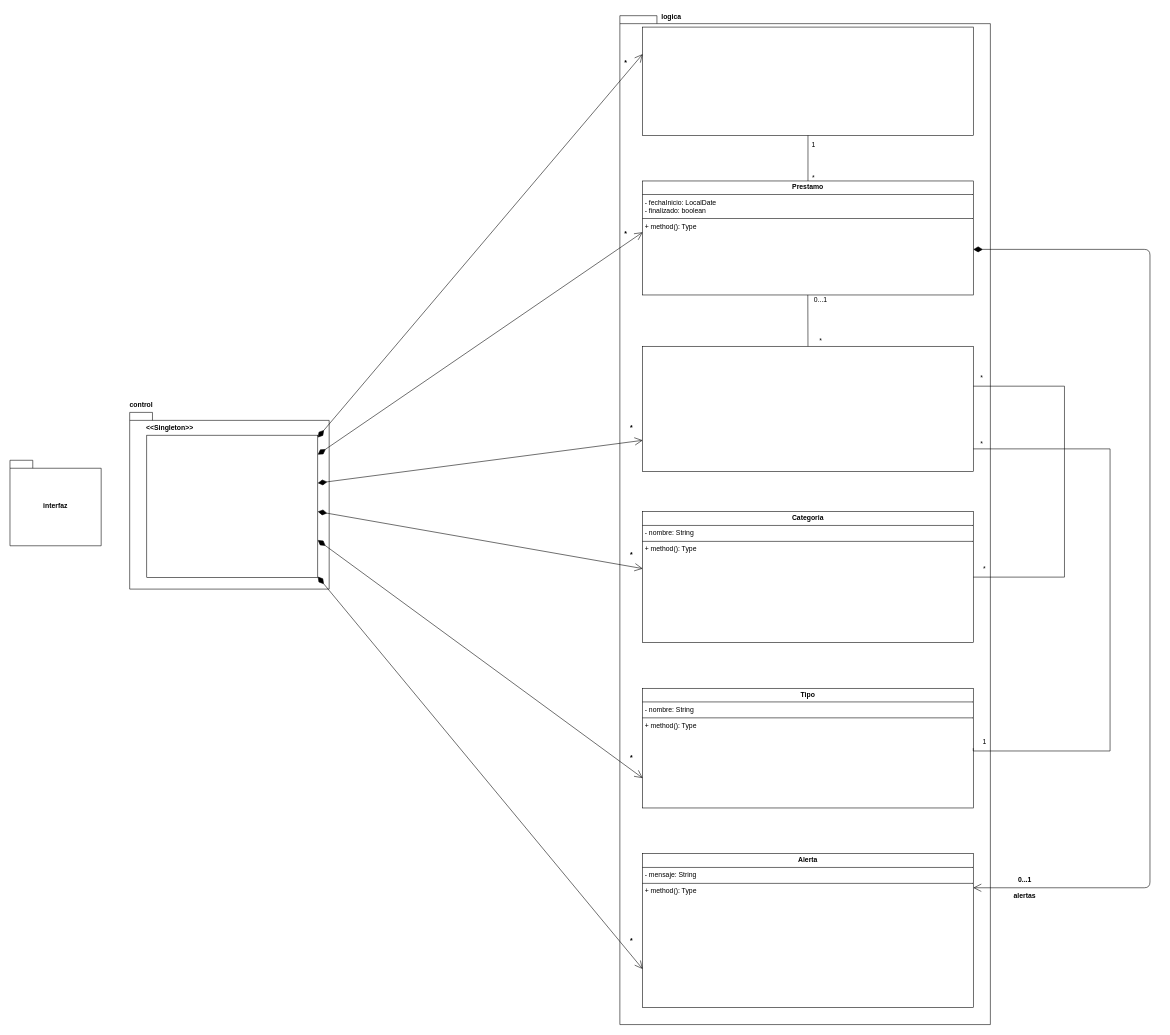
The diagram is 1170 pixels wide and 1035 high, and some of its shapes have lost their labels. Here are the shapes that lost their labels. From the top down, the centre of each, then its label:
point 807,81: Persona - nombre: String - telefono: String - correo: String + method(): Type
point 807,409: Item - nombre: String - descripcion: String - codigo: Integer + method(): Type
point 232,506: ControladoraPrestamos
